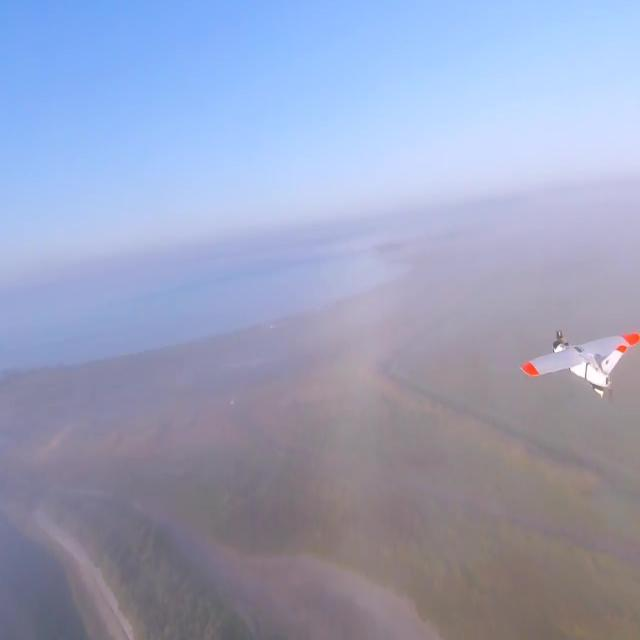iha: (553, 353, 608, 372)
